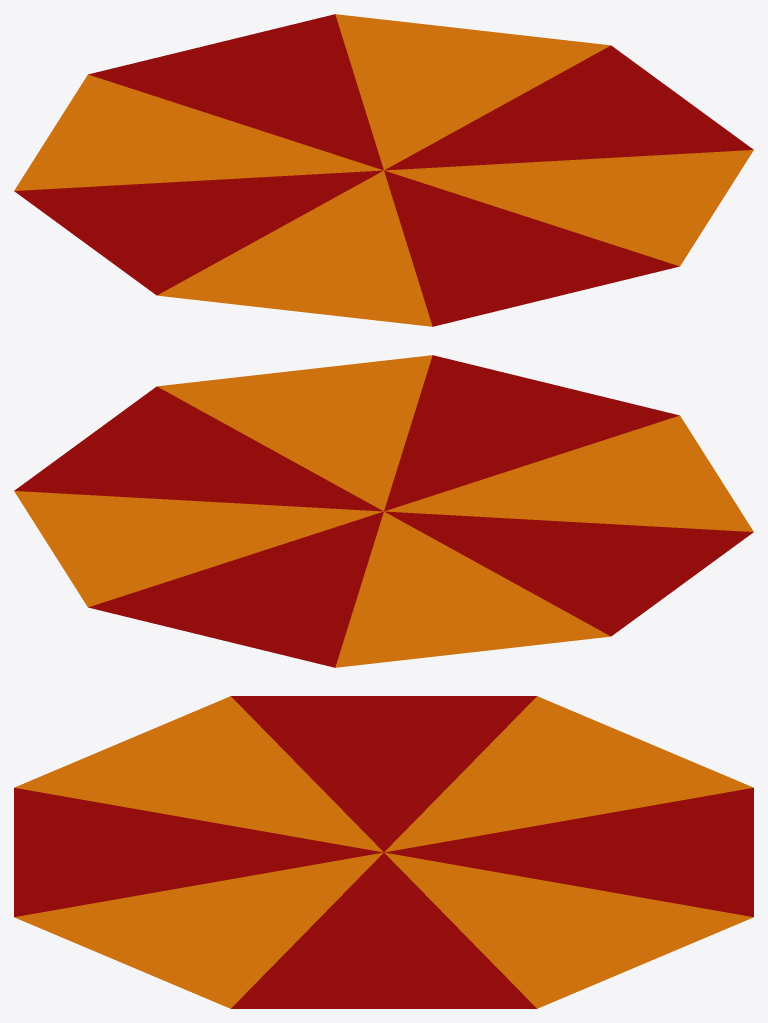
File: octagon.fbx
3 renders of one model, top to bottom at view 1: azimuth 30°, elevation 25°; view 2: azimuth 150°, elevation 25°; view 3: azimuth 270°, elevation 25°, orthographic. The views are drawn at different scales.
Parts seen in each view (by area): view 1: Cylinder; view 2: Cylinder; view 3: Cylinder.
Part boxes in pixels (x1,y1,x2,y2): Cylinder: [14, 14, 753, 326]; Cylinder: [14, 355, 753, 667]; Cylinder: [14, 696, 753, 1008].
Size of the model in its own units: 462 by 7.53e-05 by 462.
